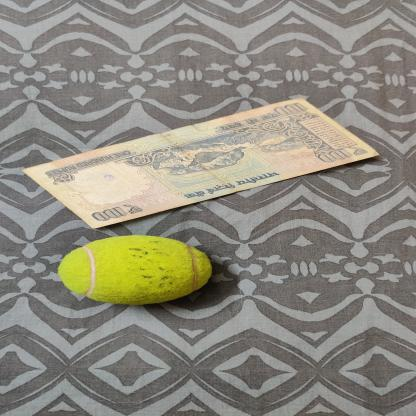Old100Back: (22, 98, 380, 228)
